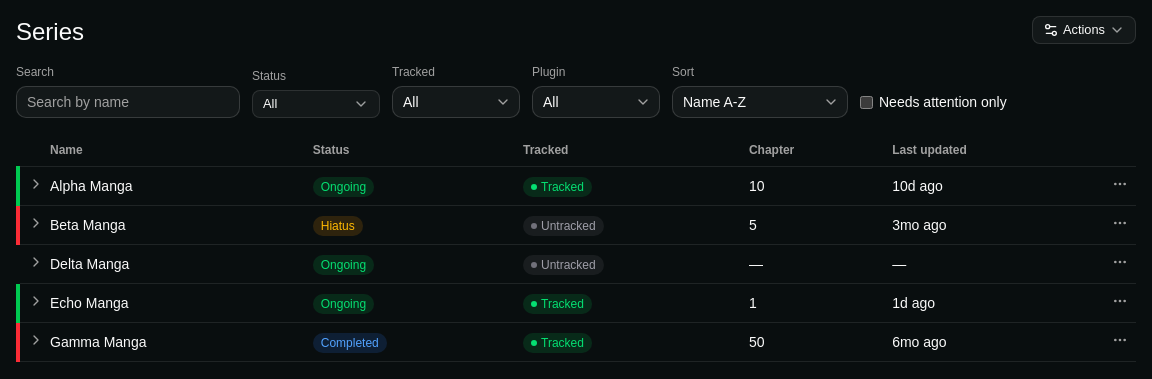
Scenario: SeriesPage › narrows by plugin
The image size is (1152, 379).
Expected: the link "Alpha Manga" is shown, [50,178,132,194]
What coordinates should you click on to do the following:
click the dropdown named "Plugin"
I would click on:
 (596, 102)
Its box is [532,86,660,118].
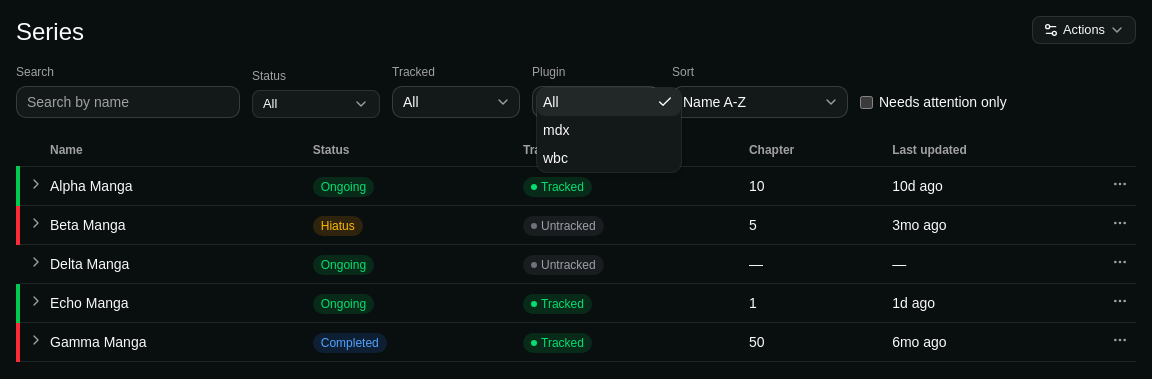
What coordinates should you click on to do the following:
click the option "wbc"
I would click on:
 (555, 158)
Its box is [543,150,568,166].
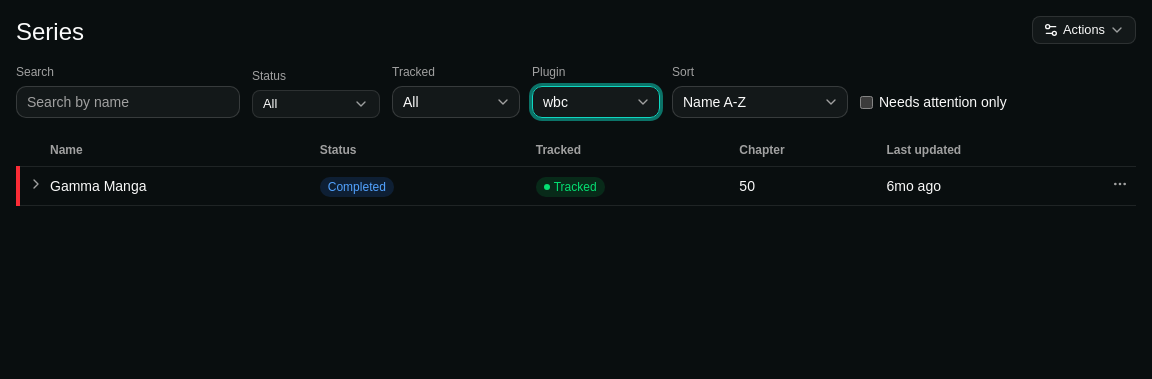
Expected: the link "Gamma Manga" is shown, [50,178,146,194]
Now the link "Alpha Manga" is gone
